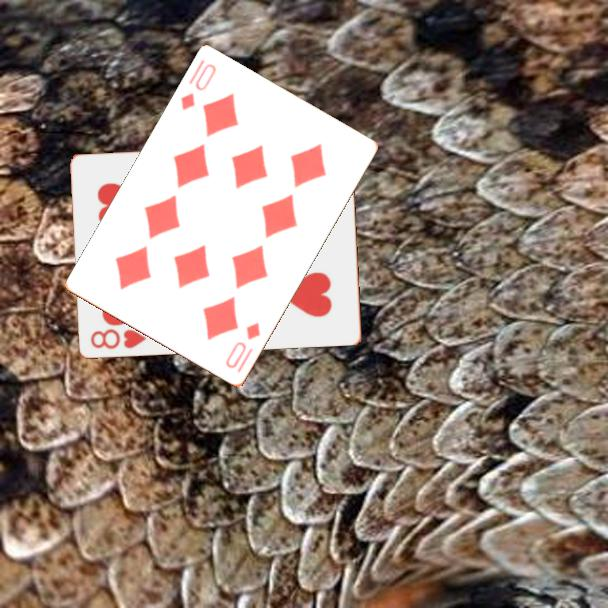d10: (177, 56, 220, 114), (222, 319, 263, 372)
h08: (87, 325, 149, 352)
